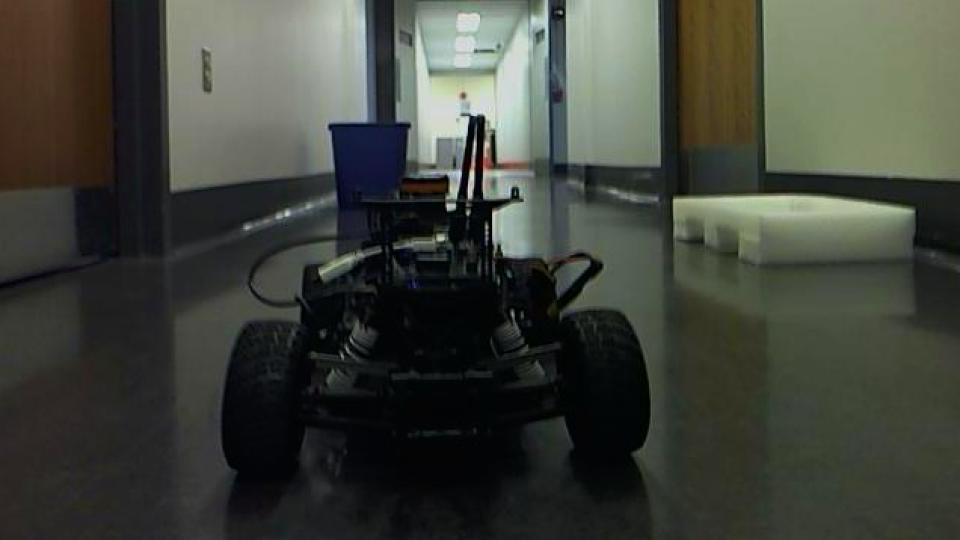car: (216, 113, 653, 484)
